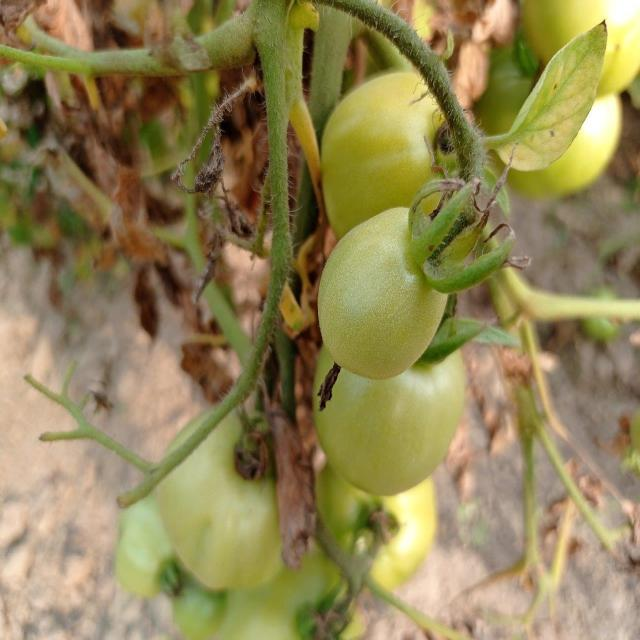Unripe: (158, 397, 292, 591), (313, 208, 453, 383)
